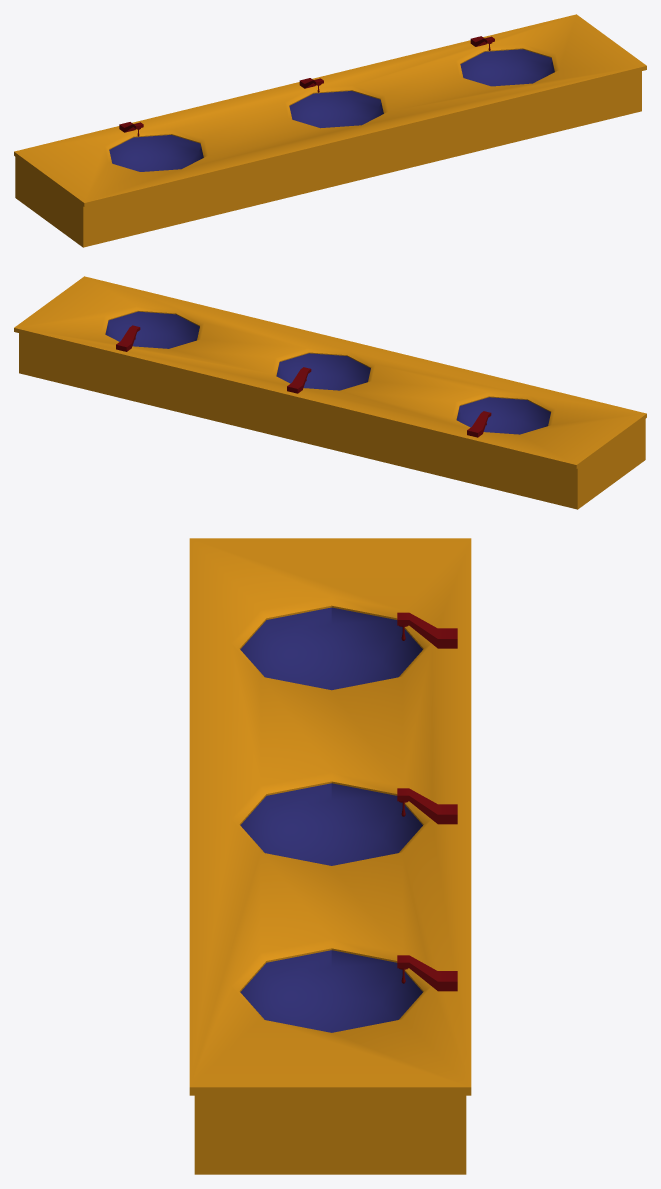
The model's file is lavabos.fbx.
The picture shows the model from 3 angles, top to bottom: view 1: azimuth 30°, elevation 25°; view 2: azimuth 150°, elevation 25°; view 3: azimuth 270°, elevation 25°; orthographic projection. The views are drawn at different scales.
Visible parts, largest first — view 1: lavabo; view 2: lavabo; view 3: lavabo.
Boxes of the visible parts, x1,y1,x2,y2 form: lavabo: (14, 14, 646, 247); lavabo: (14, 276, 646, 509); lavabo: (189, 538, 471, 1174).
Bounding box in the file's own units: 300 × 30 × 65.
